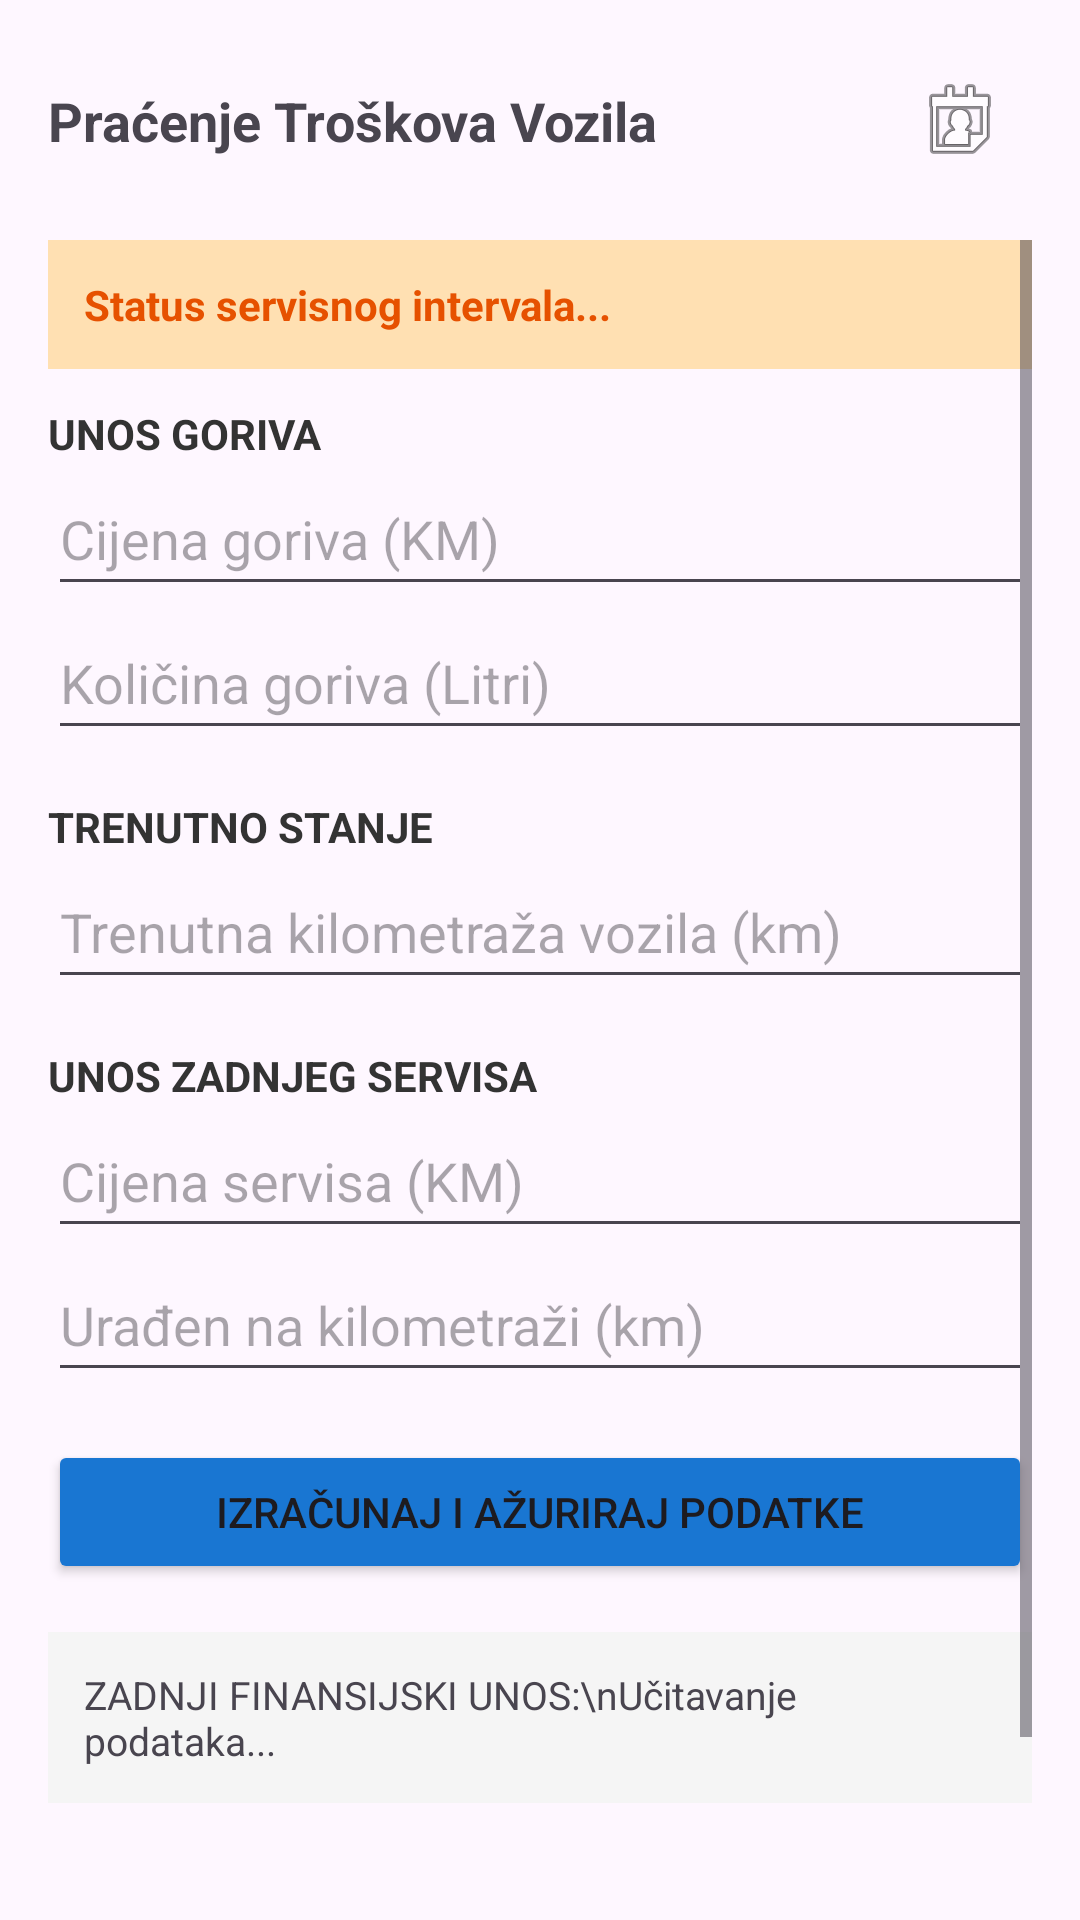

Where to tap for icons on this 1080w x 1920h app screen, as (x,y):
Profil: (960,119)
